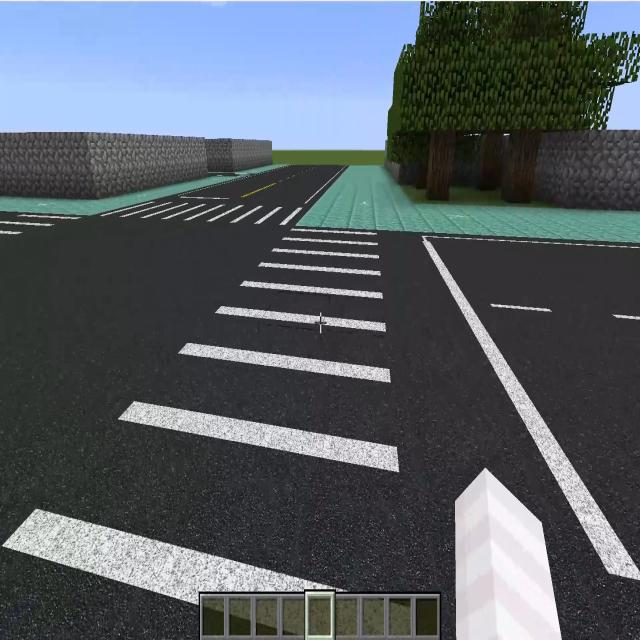crosswalk: (5, 222, 444, 635), (113, 193, 312, 235), (0, 215, 93, 254)
road: (407, 235, 638, 636), (4, 224, 260, 526), (203, 163, 345, 199)
sidewalk: (297, 166, 640, 246), (0, 176, 231, 215)
